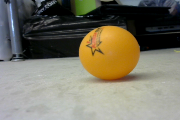PingPongBall: (79, 26, 140, 81)
